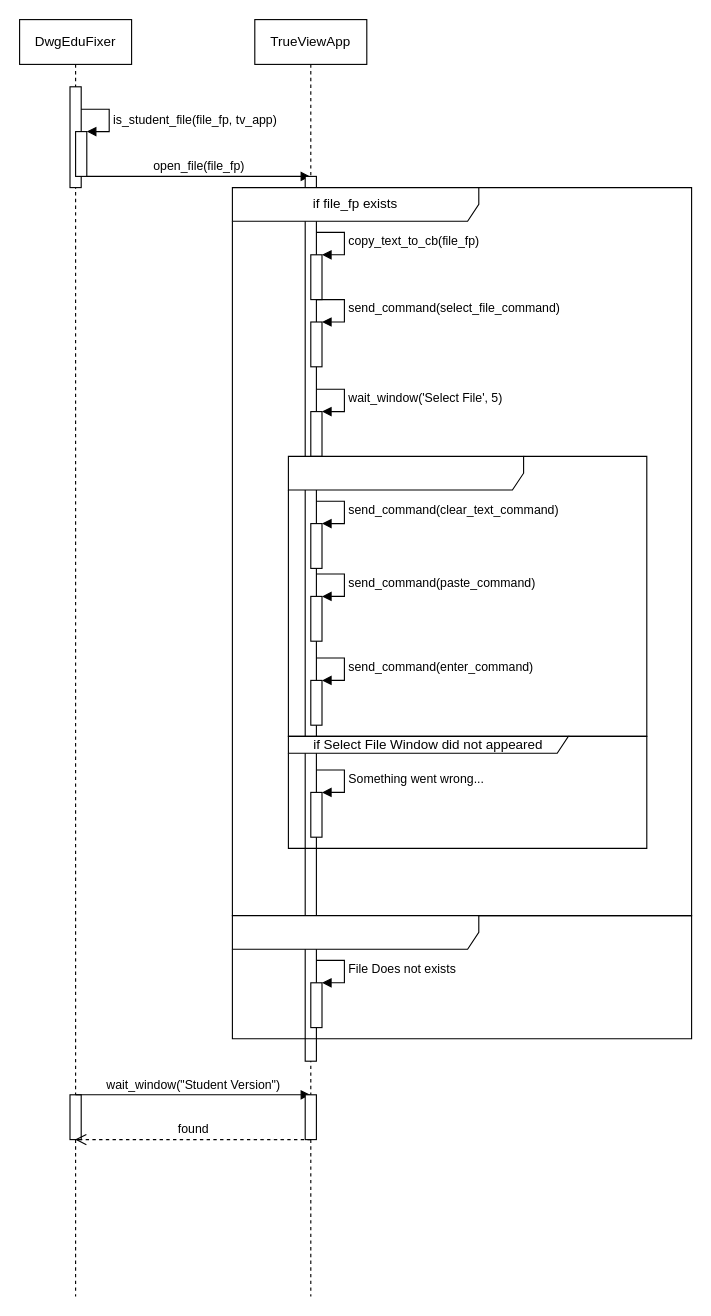
This 711x1316 diagram has some shape labels left out. The centre of each missing label's shape, as x and y in pixels:
"if file_fp does not exists" belongs at point 461,976.
"if Select File Window appeared" belongs at point 467,595.
